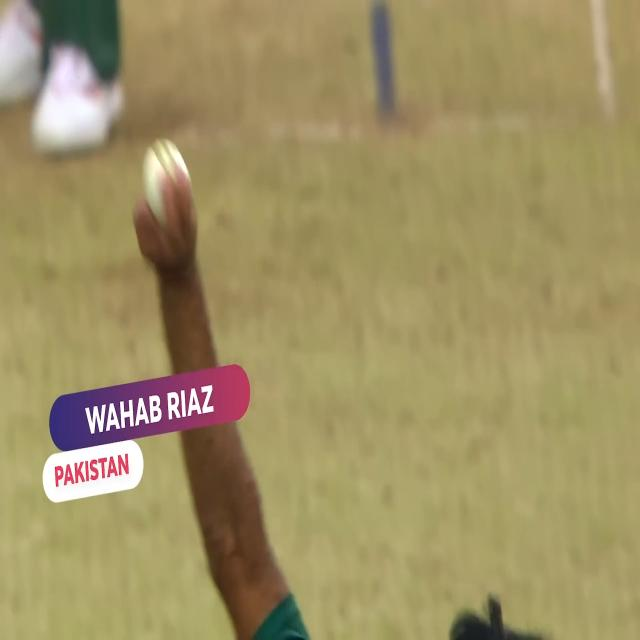ball: (135, 127, 195, 221)
